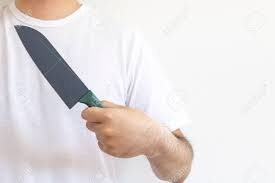knife: (10, 24, 110, 111)
